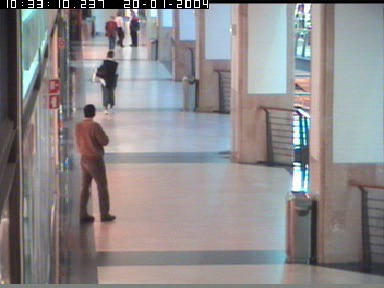person: (75, 104, 116, 222), (90, 49, 117, 114), (104, 14, 117, 50), (129, 10, 141, 47), (114, 10, 124, 45)
